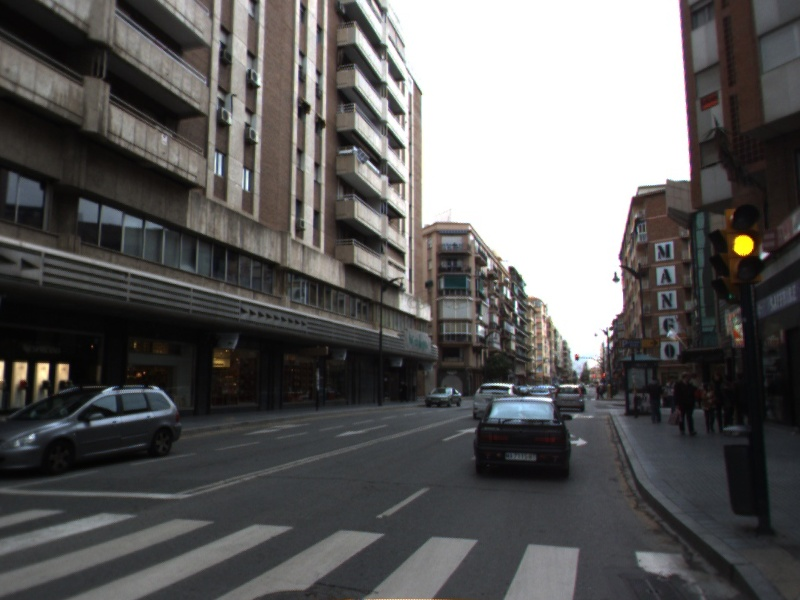STRAIGHT: (440, 425, 478, 443)
STRAIGHT_RIGHT: (570, 411, 596, 421)
